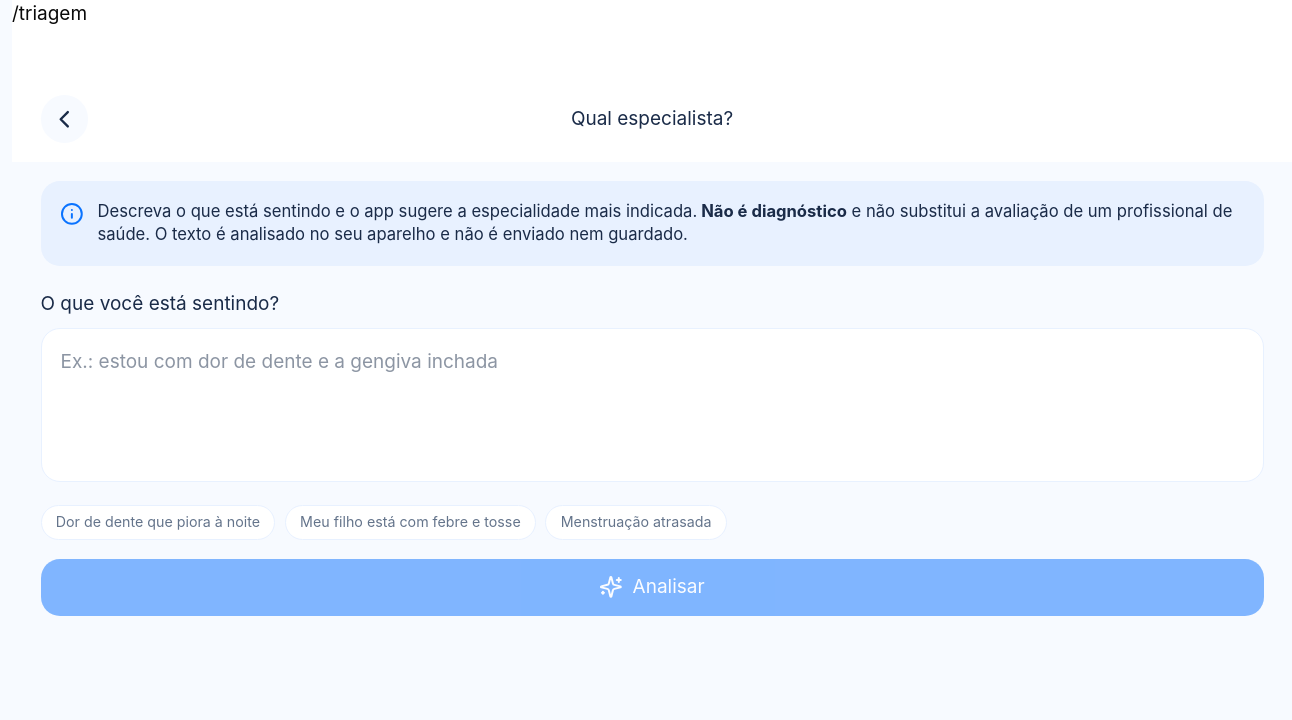
Test: tela de triagem › sugere a especialidade e leva ao agendamento dela
In the text box labelled "O que você está sentindo?": (652, 405) [40,328,1264,482], type "meu filho está com febre e tosse"
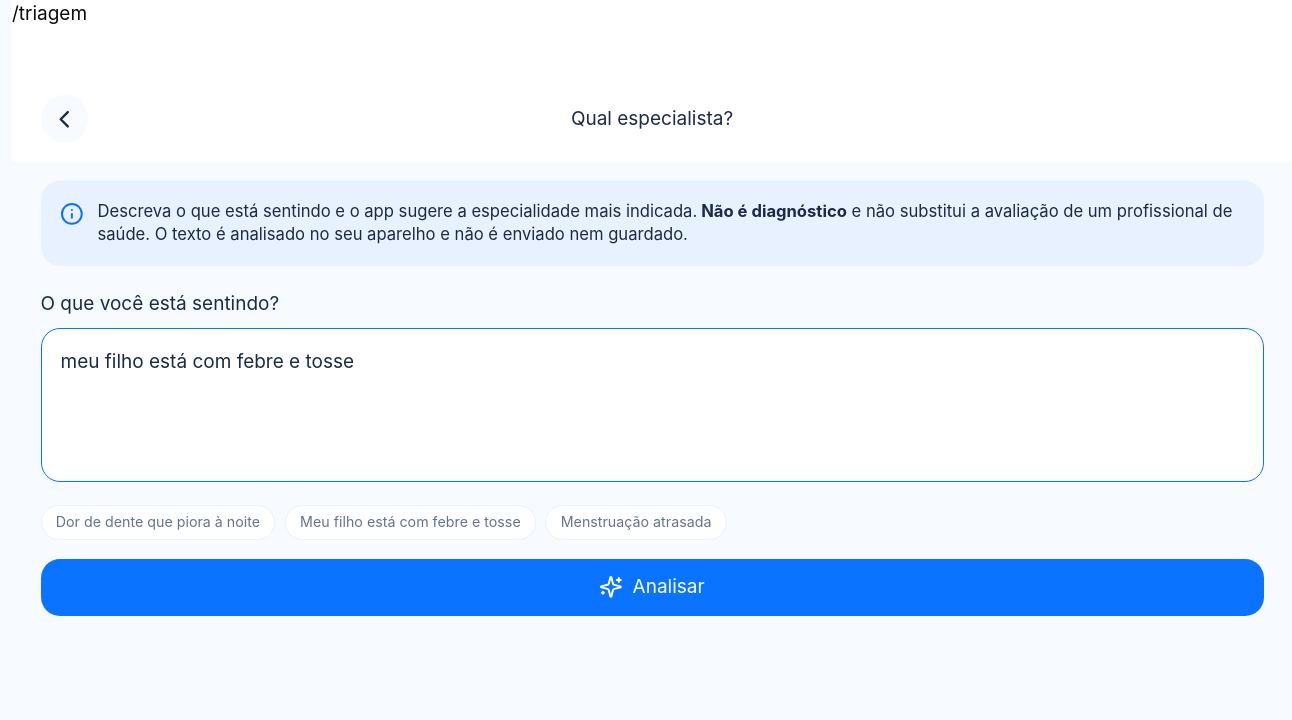
Click the button "Analisar": (652, 587) [40,559,1264,616]
(page scrolled)
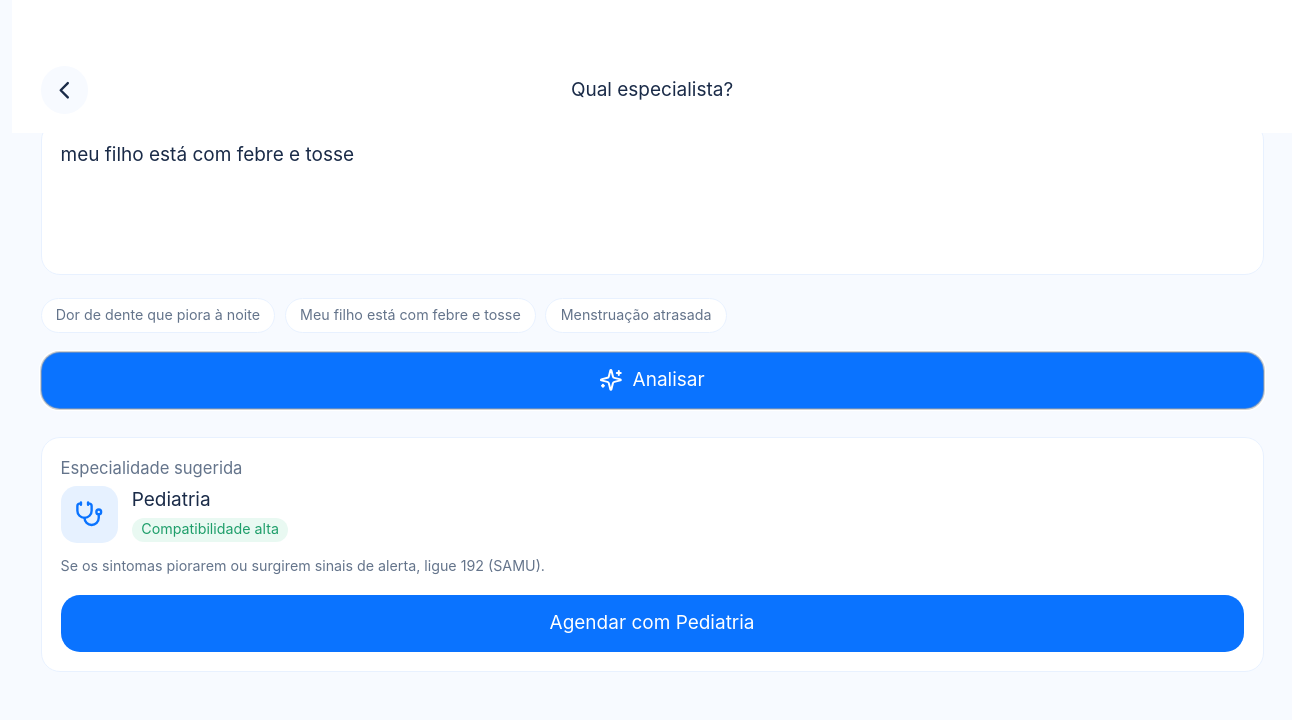
Result: the heading "Pediatria" is shown at [132,488,211,511]
Result: the text "Compatibilidade alta" is shown at [132,518,288,542]
Click the button "Agendar com Pediatria": (652, 624) [60,595,1244,652]
(page scrolled)
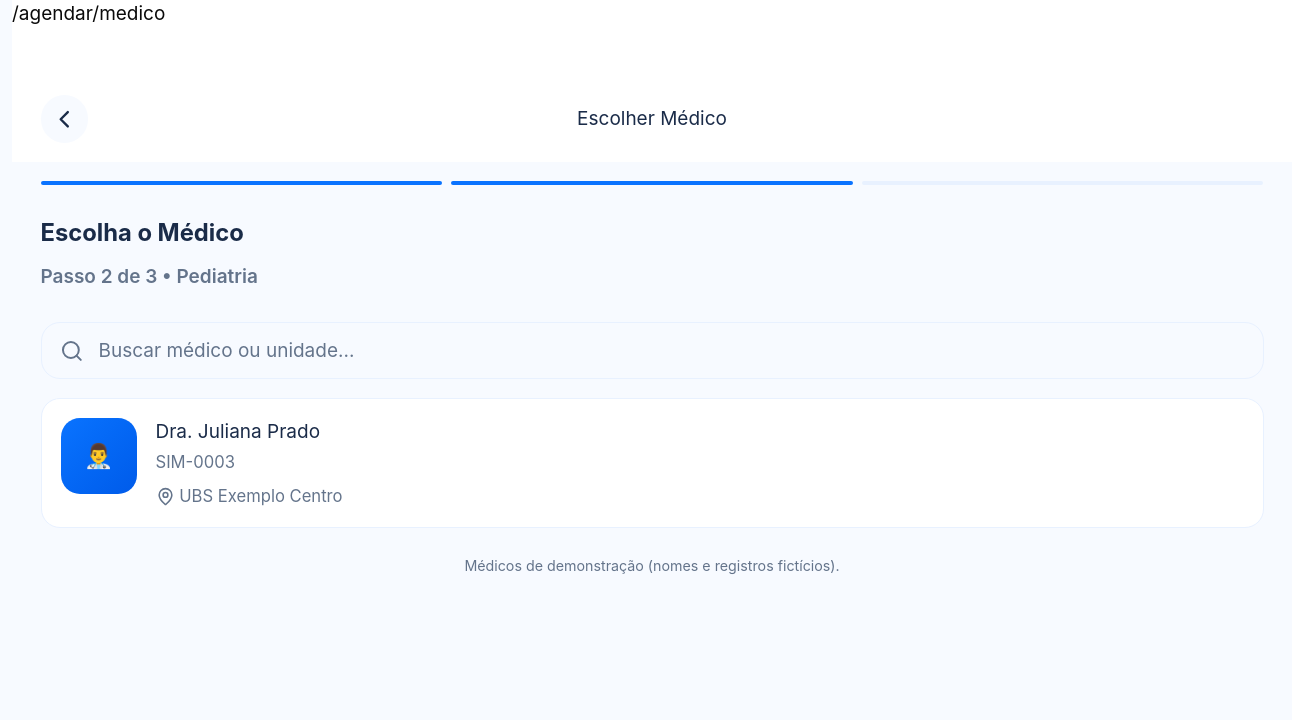
Result: the text with test id "where" reads "/agendar/medico" at [12,2,165,25]
